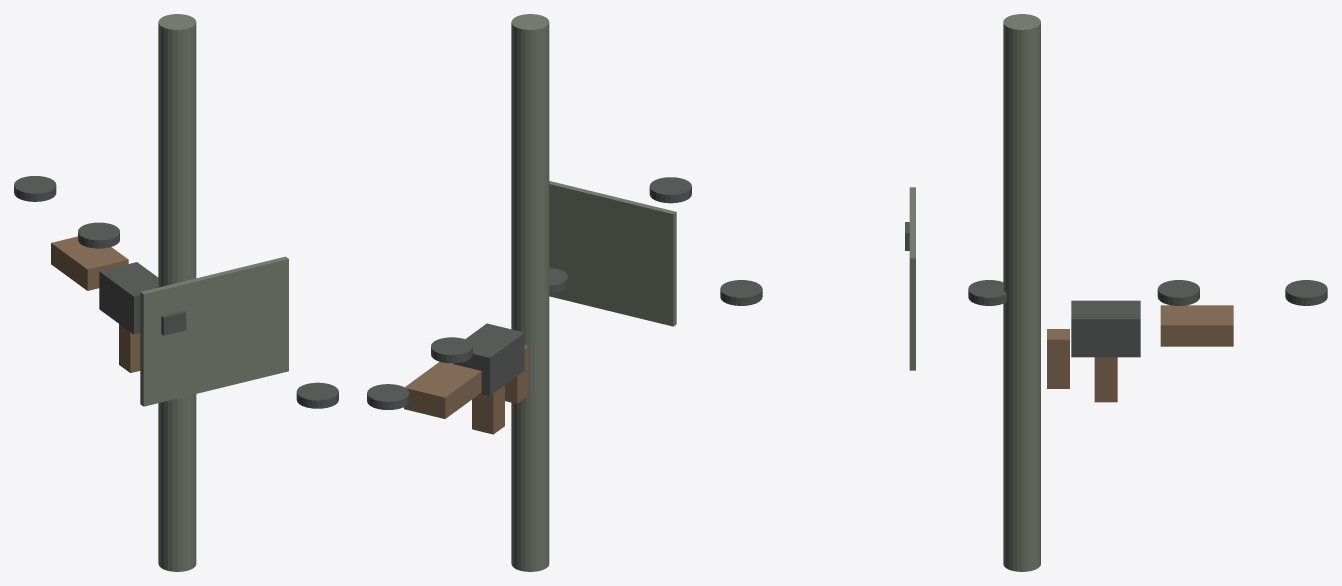
Rendered from de-panzerschreck-preview.glb.
The picture shows the model from 3 angles, left to right: view 1: azimuth 30°, elevation 25°; view 2: azimuth 150°, elevation 25°; view 3: azimuth 270°, elevation 25°; orthographic projection.
Parts seen in each view (by area): view 1: Raketepanzerbuechse54, AntiBlastShield, TriggerHousing, ShoulderPad, SteelBand3, SteelBand0, SteelBand1, RightPistolGrip, SightWindow; view 2: Raketepanzerbuechse54, AntiBlastShield, ShoulderPad, TriggerHousing, RightPistolGrip, SteelBand3, SteelBand0, SteelBand1, LeftForegrip, SteelBand2; view 3: Raketepanzerbuechse54, TriggerHousing, ShoulderPad, LeftForegrip, AntiBlastShield, RightPistolGrip, SteelBand1, SteelBand0, SteelBand3, SteelBand2.
Part boxes in pixels (x1=…): Raketepanzerbuechse54: x1=158, y1=14, x2=196, y2=571; AntiBlastShield: x1=140, y1=256, x2=288, y2=406; TriggerHousing: x1=99, y1=262, x2=158, y2=334; ShoulderPad: x1=51, y1=236, x2=128, y2=290; SteelBand3: x1=296, y1=382, x2=338, y2=408; SteelBand0: x1=14, y1=176, x2=56, y2=201; SteelBand1: x1=78, y1=222, x2=119, y2=248; RightPistolGrip: x1=119, y1=324, x2=140, y2=372; SightWindow: x1=161, y1=310, x2=186, y2=335; Raketepanzerbuechse54: x1=511, y1=14, x2=549, y2=571; AntiBlastShield: x1=549, y1=181, x2=676, y2=326; ShoulderPad: x1=404, y1=361, x2=481, y2=418; TriggerHousing: x1=452, y1=323, x2=524, y2=395; RightPistolGrip: x1=472, y1=385, x2=504, y2=434; SteelBand3: x1=649, y1=177, x2=691, y2=203; SteelBand0: x1=367, y1=384, x2=409, y2=409; SteelBand1: x1=431, y1=337, x2=472, y2=363; LeftForegrip: x1=505, y1=345, x2=528, y2=403; SteelBand2: x1=549, y1=268, x2=567, y2=293; Raketepanzerbuechse54: x1=1003, y1=14, x2=1040, y2=571; TriggerHousing: x1=1071, y1=300, x2=1140, y2=357; ShoulderPad: x1=1160, y1=305, x2=1233, y2=346; LeftForegrip: x1=1047, y1=329, x2=1069, y2=388; AntiBlastShield: x1=909, y1=187, x2=915, y2=370; RightPistolGrip: x1=1094, y1=357, x2=1117, y2=402; SteelBand1: x1=1157, y1=280, x2=1199, y2=305; SteelBand0: x1=1285, y1=280, x2=1327, y2=305; SteelBand3: x1=720, y1=280, x2=762, y2=305; SteelBand2: x1=968, y1=280, x2=1006, y2=305.
Bounding box in the file's own units: 0.46 × 1.64 × 1.67.
